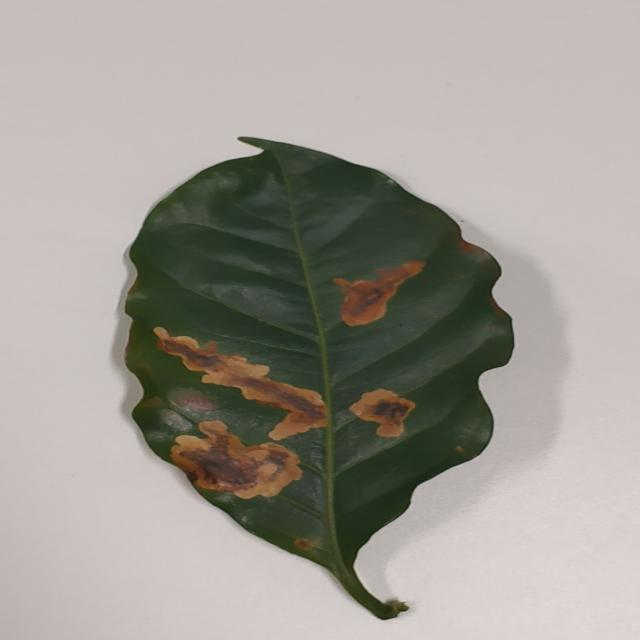Plaga-Minador: (114, 136, 517, 623)
